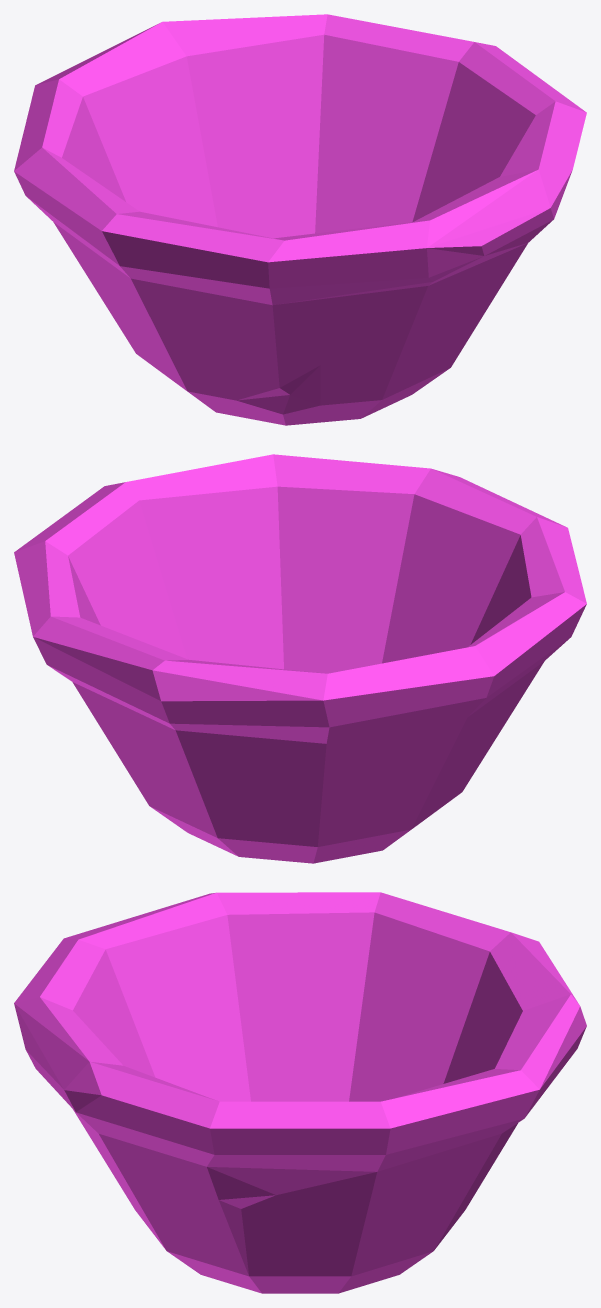
Rendered from SM_Bowl_A_Fantasy.fbx.
The picture shows the model from 3 angles, top to bottom: view 1: azimuth 30°, elevation 25°; view 2: azimuth 150°, elevation 25°; view 3: azimuth 270°, elevation 25°; orthographic projection.
Parts seen in each view (by area): view 1: SM_Bowl_A_Fantasy; view 2: SM_Bowl_A_Fantasy; view 3: SM_Bowl_A_Fantasy.
Part boxes in pixels (left/top/right/bottom): SM_Bowl_A_Fantasy: left=14, top=14, right=586, bottom=425; SM_Bowl_A_Fantasy: left=14, top=454, right=586, bottom=863; SM_Bowl_A_Fantasy: left=14, top=892, right=586, bottom=1293.
Size of the model in its own units: 0.2597 by 0.1289 by 0.2677.
